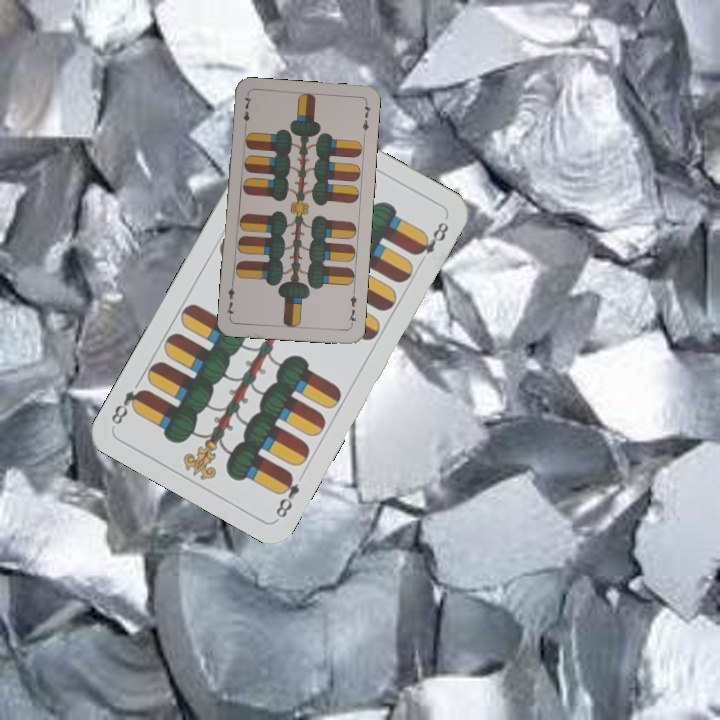E7: (345, 288, 359, 328), (240, 92, 254, 132)
E8: (271, 468, 303, 521)
